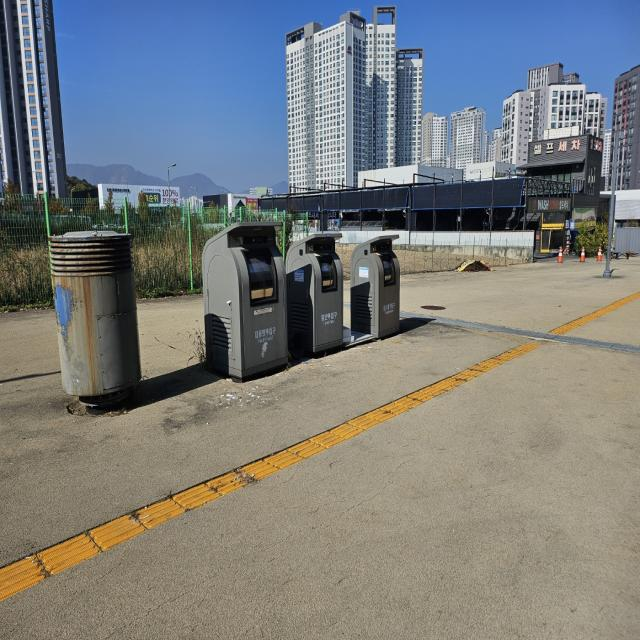CleanNet: (204, 219, 288, 382), (288, 233, 346, 361), (350, 233, 400, 340)
